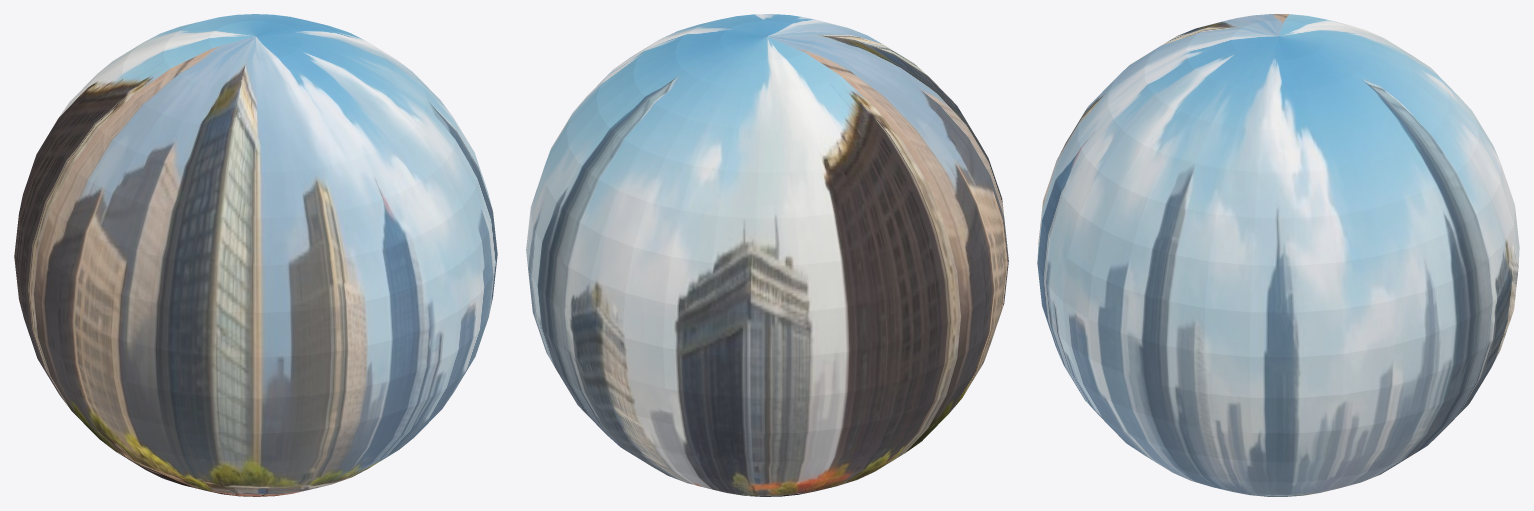
Rendered from level_1_1.glb.
The picture shows the model from 3 angles, left to right: view 1: azimuth 30°, elevation 25°; view 2: azimuth 150°, elevation 25°; view 3: azimuth 270°, elevation 25°; orthographic projection.
Visible parts, largest first — view 1: Сфера; view 2: Сфера; view 3: Сфера.
Boxes of the visible parts, bbox=[...] form: Сфера: bbox=[14, 14, 497, 496]; Сфера: bbox=[526, 14, 1008, 496]; Сфера: bbox=[1037, 14, 1519, 496].
Size of the model in its own units: 243 by 244 by 243.
Materials: 2 (1 with a texture image).
